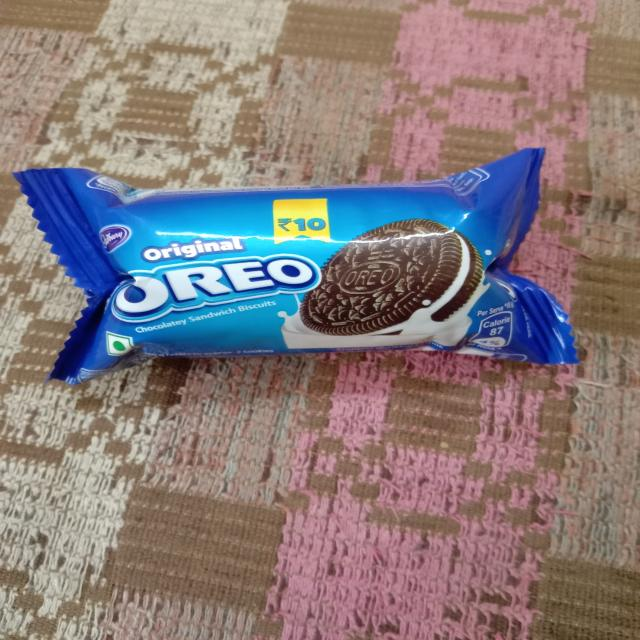oreo biscuit: (12, 162, 584, 386)
